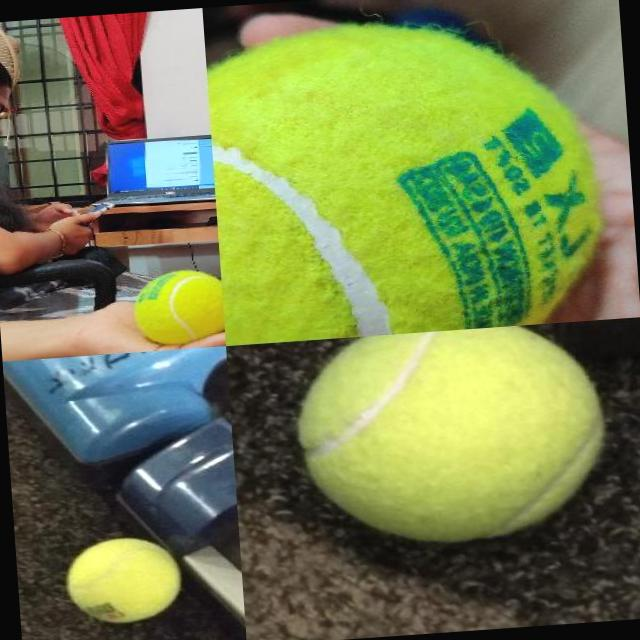Tennis Ball: (206, 12, 605, 344), (286, 319, 619, 557), (62, 534, 184, 626), (132, 267, 225, 345)
